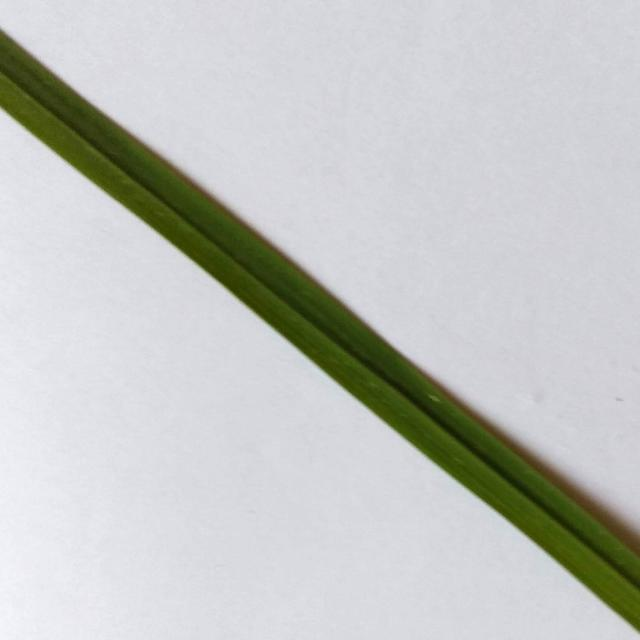Rice_Healthy: (0, 30, 640, 630)
